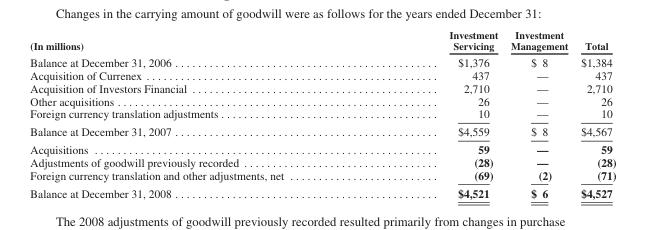table: (29, 28, 615, 199)
table column: (29, 28, 365, 199), (365, 28, 503, 199), (503, 28, 573, 199), (573, 28, 615, 199)
table column header: (29, 28, 615, 53)
table row: (29, 28, 615, 53), (29, 122, 615, 140), (29, 183, 615, 199), (29, 53, 615, 68), (29, 107, 615, 122), (29, 140, 615, 155), (29, 168, 615, 183), (29, 68, 615, 81), (29, 81, 615, 94), (29, 94, 615, 107), (29, 155, 615, 168)
